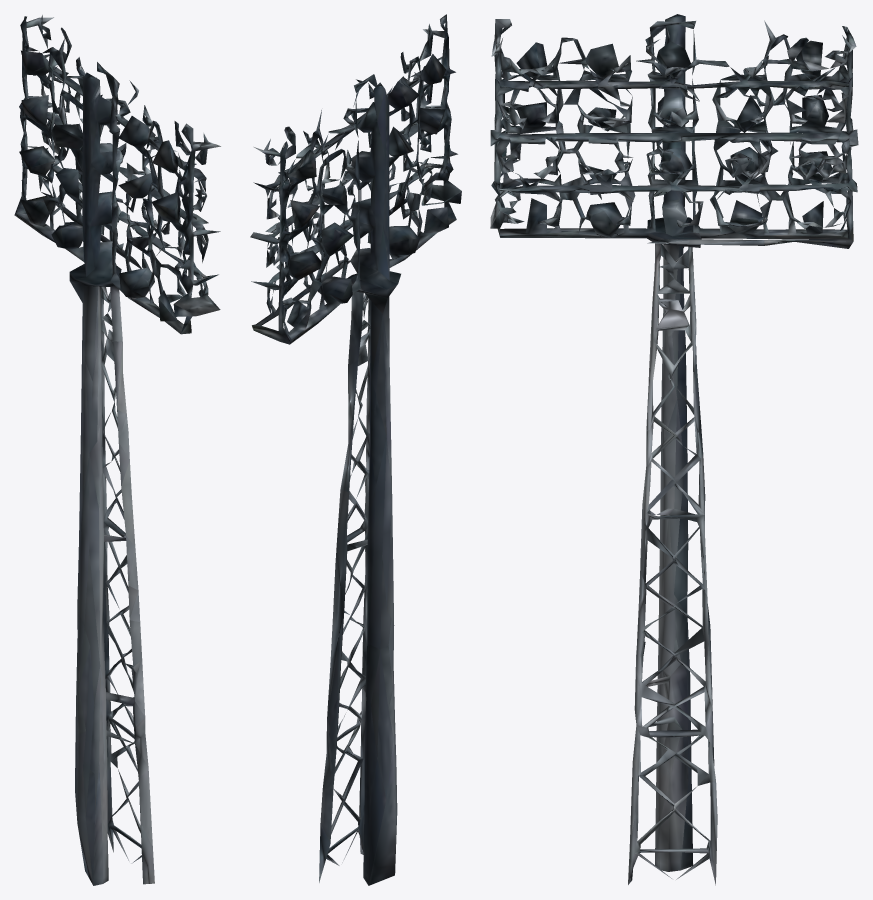
Rendered from flutlicht.glb.
3 renders of one model, left to right at view 1: azimuth 30°, elevation 25°; view 2: azimuth 150°, elevation 25°; view 3: azimuth 270°, elevation 25°, orthographic. The views are drawn at different scales.
Parts seen in each view (by area): view 1: tripo_node_453ec91f-14cf-42fa-8620-d42134dce4c4; view 2: tripo_node_453ec91f-14cf-42fa-8620-d42134dce4c4; view 3: tripo_node_453ec91f-14cf-42fa-8620-d42134dce4c4.
Part boxes in pixels (x1,y1,x2,y2): tripo_node_453ec91f-14cf-42fa-8620-d42134dce4c4: (14,15,220,885); tripo_node_453ec91f-14cf-42fa-8620-d42134dce4c4: (250,14,461,885); tripo_node_453ec91f-14cf-42fa-8620-d42134dce4c4: (490,14,858,885).
Bounding box in the file's own units: 0.0811 × 0.999 × 0.3899.
1 material, 1 textured.
